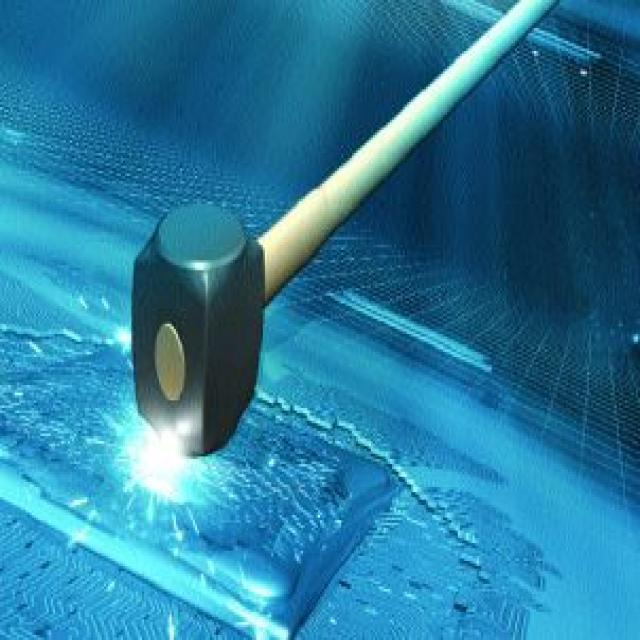hammer: (125, 0, 566, 467)
